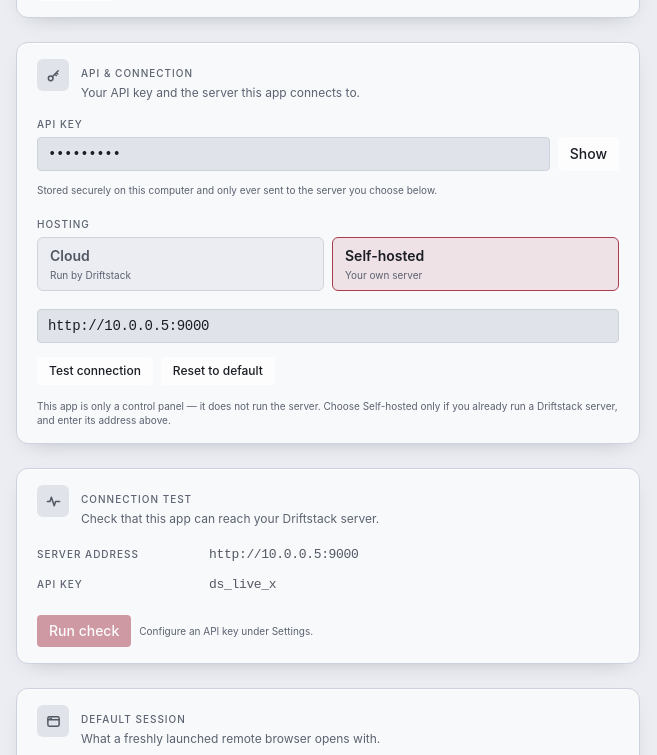
Scenario: SettingsView (V-288 jsdom + RTL foundation) › Reset to default resets the self-hosted base URL draft to the default constant
(page scrolled)
Expected: the field with placeholder "http://localhost:3000" holds "http://10.0.0.5:9000", [37,309,619,343]
Click the button "Reset to default".
click(218, 371)  # box [161,357,275,385]
(page scrolled)
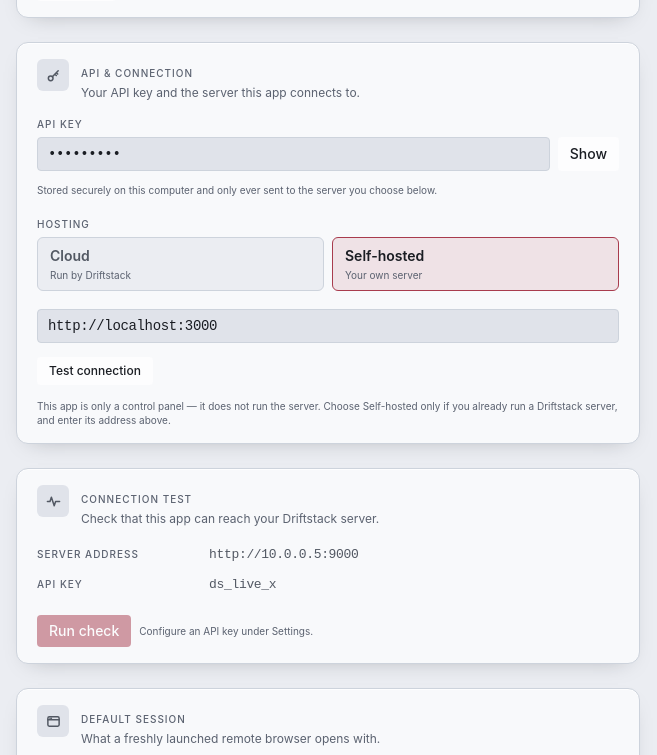
Now the field with placeholder "http://localhost:3000" holds "http://localhost:3000", box [37,309,619,343]
